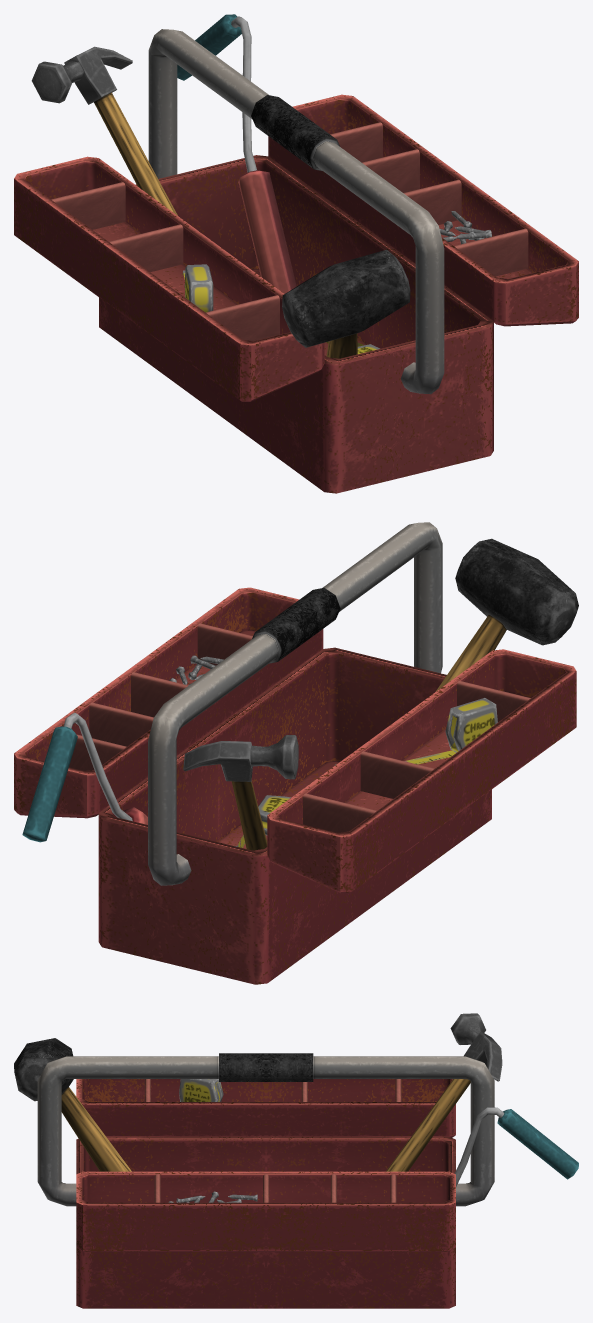
Rendered from SM_Toolbox_001.fbx.
3 renders of one model, top to bottom at view 1: azimuth 30°, elevation 25°; view 2: azimuth 150°, elevation 25°; view 3: azimuth 270°, elevation 25°, orthographic. The views are drawn at different scales.
Visible parts, largest first — view 1: SM_MeterTool_00; view 2: SM_MeterTool_00; view 3: SM_MeterTool_00.
Part boxes in pixels (<box>): SM_MeterTool_00: <box>14,14,578,493</box>; SM_MeterTool_00: <box>14,522,578,984</box>; SM_MeterTool_00: <box>14,1013,578,1308</box>.
Bounding box in the file's own units: 106 × 81.2 × 188.
